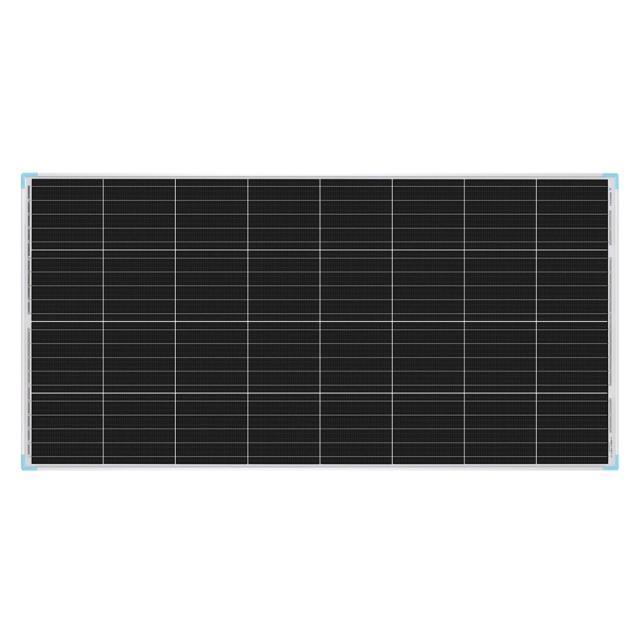clean-solar-panel: (21, 172, 619, 470)
